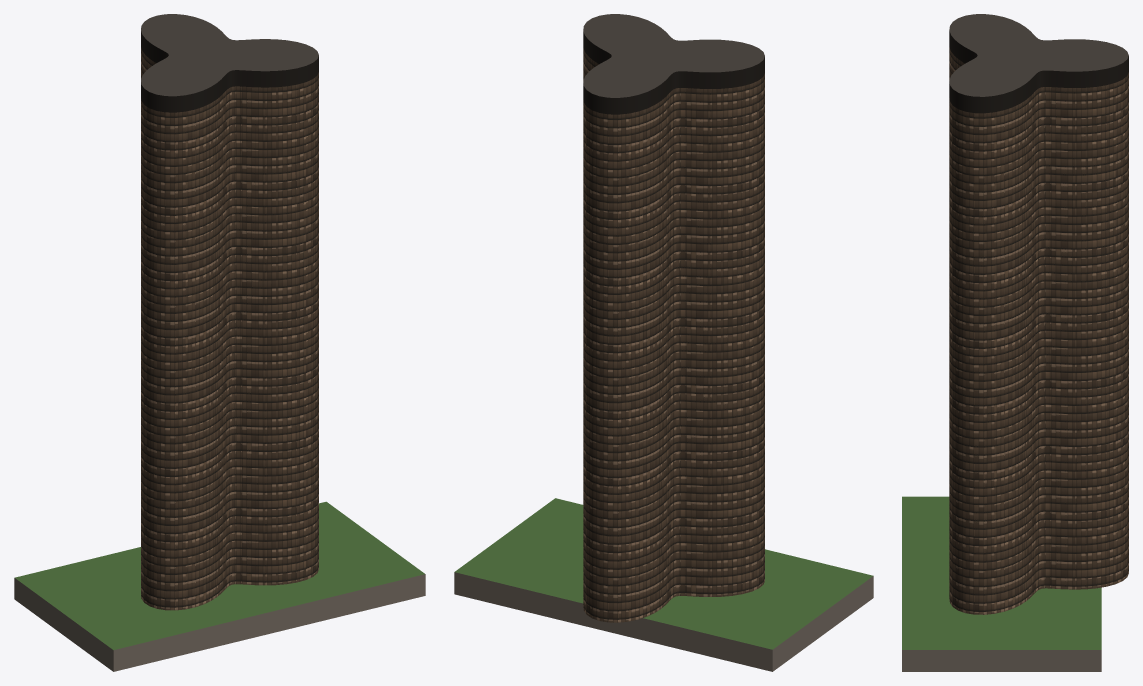
The model's file is lake_point_tower.glb.
3 renders of one model, left to right at view 1: azimuth 30°, elevation 25°; view 2: azimuth 150°, elevation 25°; view 3: azimuth 270°, elevation 25°, orthographic. The views are drawn at different scales.
Parts seen in each view (by area): view 1: lake_point_tower; view 2: lake_point_tower; view 3: lake_point_tower.
Part boxes in pixels (x1,y1,x2,y2): lake_point_tower: (14, 14, 425, 671); lake_point_tower: (454, 14, 873, 671); lake_point_tower: (902, 14, 1128, 671).
Size of the model in its own units: 120 by 197 by 75.
2 materials, 2 textured.
